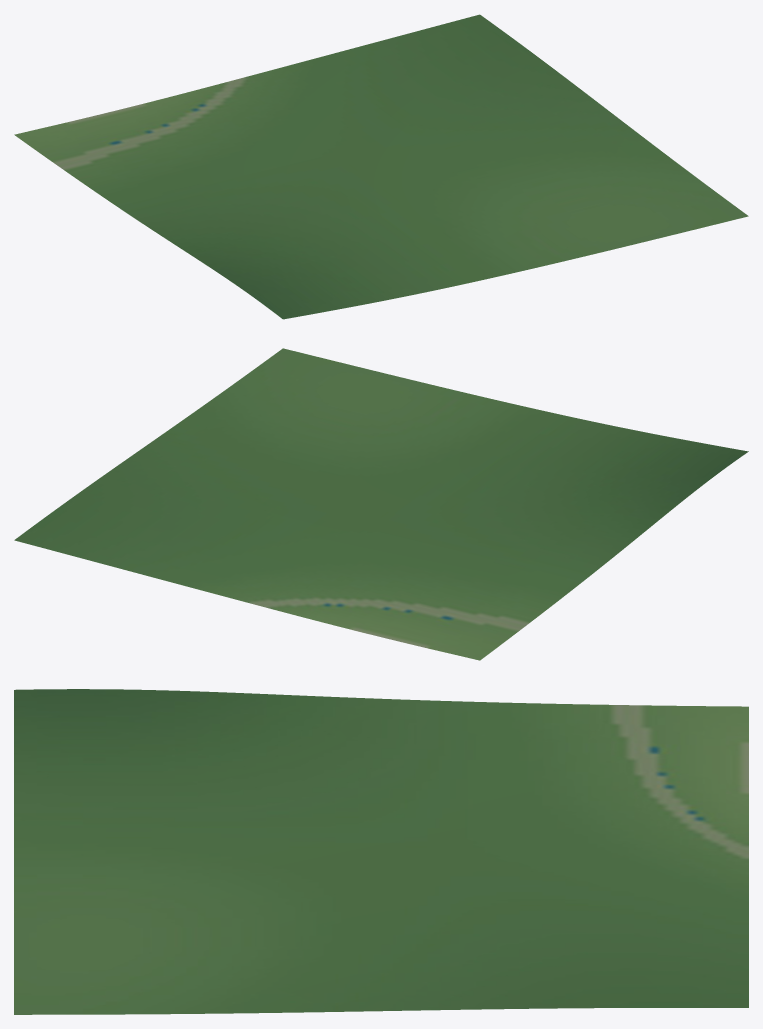
Rendered from terrain_T_E02_N00.glb.
3 views of the same model, one above another, from view 1: azimuth 30°, elevation 25°; view 2: azimuth 150°, elevation 25°; view 3: azimuth 270°, elevation 25° (orthographic). The views are drawn at different scales.
Visible parts, largest first — view 1: Terrain_T_E02_N00; view 2: Terrain_T_E02_N00; view 3: Terrain_T_E02_N00.
Part boxes in pixels (left/top/right/bottom): Terrain_T_E02_N00: left=14, top=14, right=748, bottom=319; Terrain_T_E02_N00: left=14, top=348, right=748, bottom=660; Terrain_T_E02_N00: left=14, top=689, right=748, bottom=1014.
Size of the model in its own units: 2000 by 55.01 by 2000.
1 material, 1 textured.
